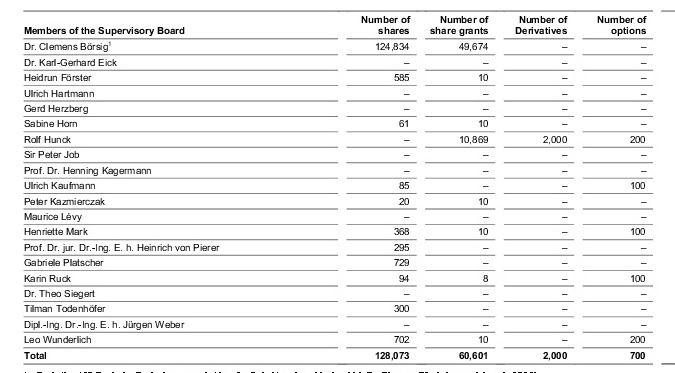table: (0, 0, 675, 373)
